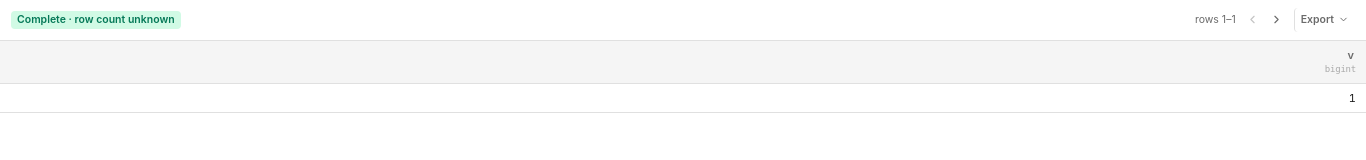
Test: durable full results › keeps unknown next-page availability explicit and exploratory
Click the button named "Next page": [1277, 20] box [1266,10,1288,30]
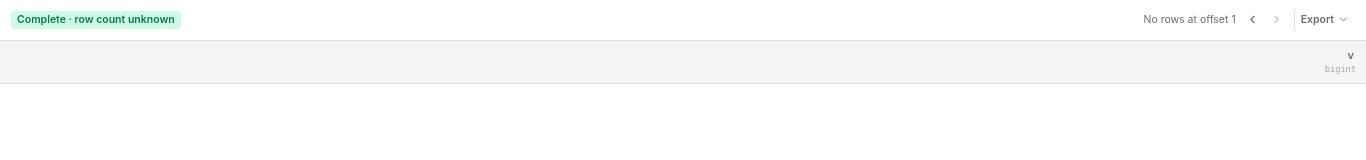
Now the text "No rows at offset 1" is shown, box [1144,12,1236,28]
Now the button named "Next page" is disabled, box [1266,10,1288,30]
Now the button named "Previous page" is enabled
Click the button named "Previous page": [1253, 20] box [1242,10,1264,30]
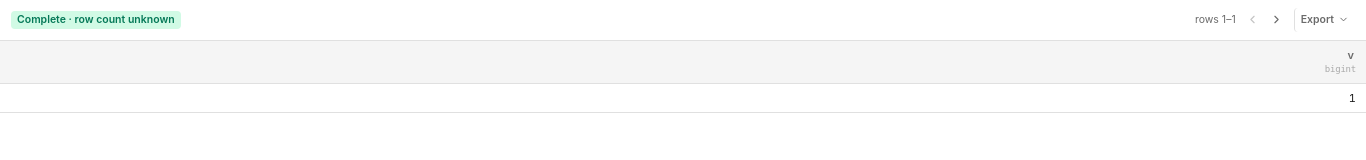
Now the text "rows 1–1" is shown, box [1195,12,1236,28]
